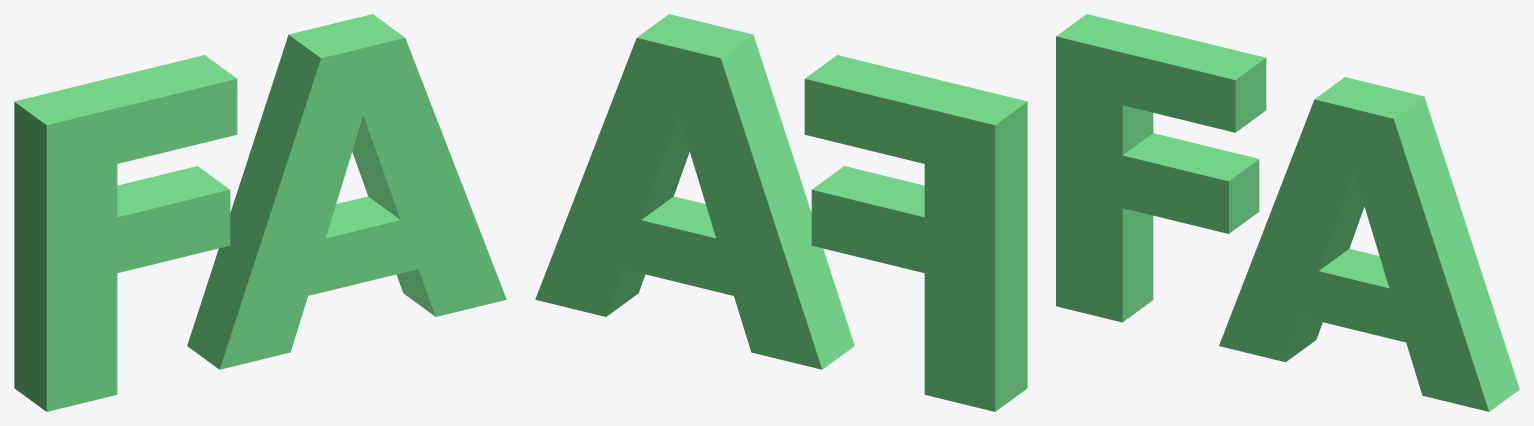
File: suku_besar_fa.glb
The picture shows the model from 3 angles, left to right: view 1: azimuth 30°, elevation 25°; view 2: azimuth 150°, elevation 25°; view 3: azimuth 330°, elevation 25°; orthographic projection. The views are drawn at different scales.
Visible parts, largest first — view 1: geometry_0; view 2: geometry_0; view 3: geometry_0.
Part boxes in pixels (x1,y1,x2,y2): geometry_0: (14,14,506,411); geometry_0: (535,14,1027,411); geometry_0: (1056,14,1519,411).
Size of the model in its own units: 12.24 by 7.29 by 1.5.
